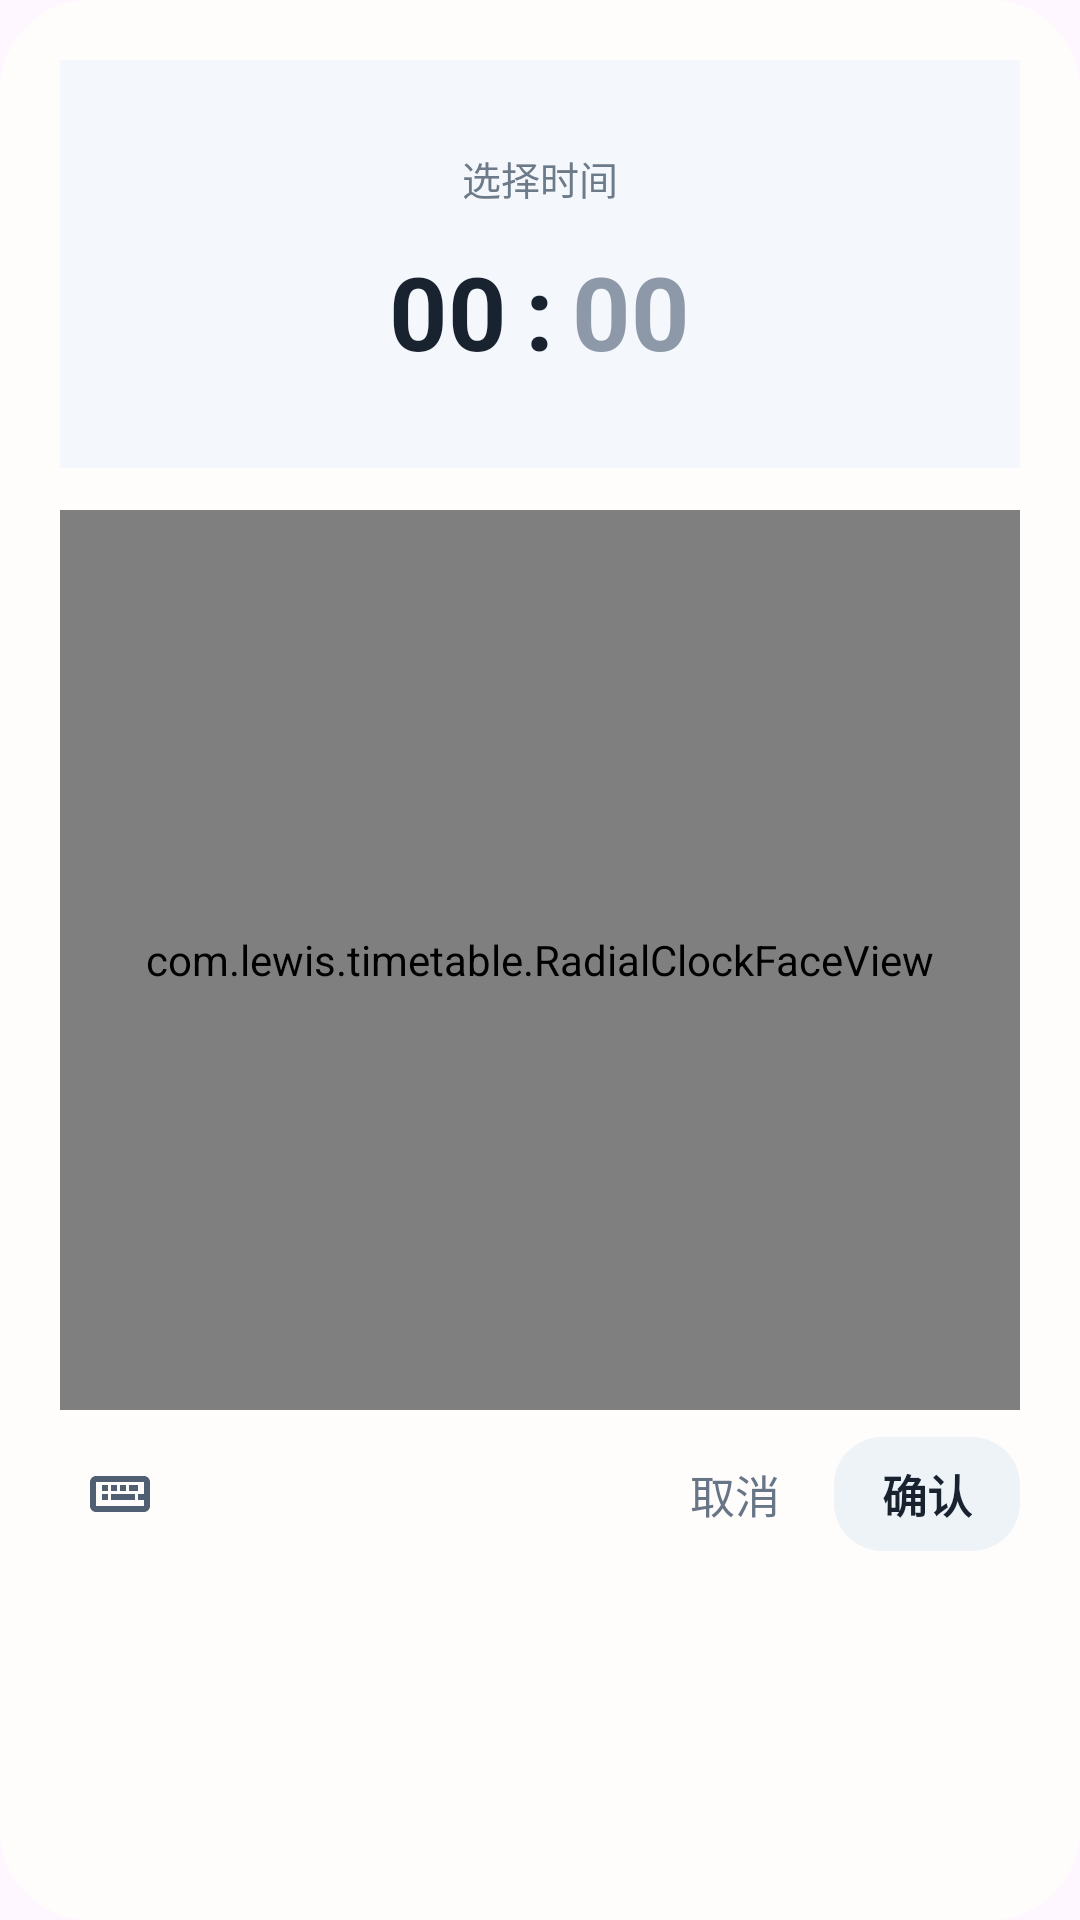

Where to tap for icons on this 1080*1920 app screen, as (x,y):
切换时间输入方式: (120,1494)
